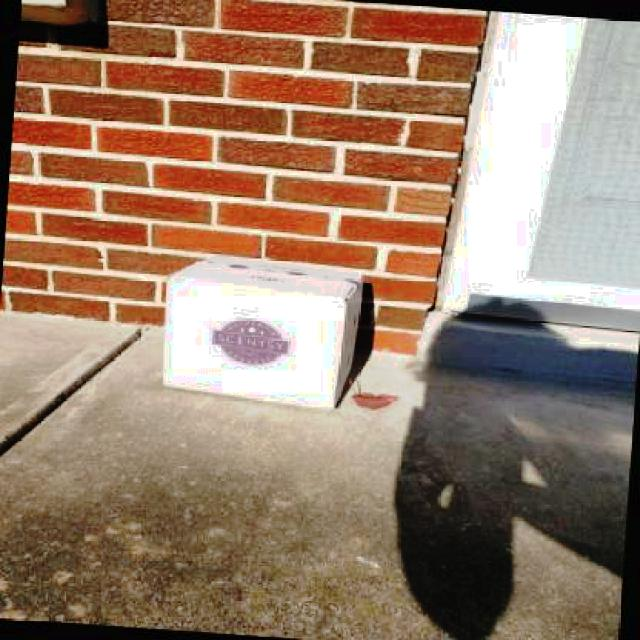Box: (302, 303, 417, 375), (164, 257, 260, 340), (294, 246, 389, 323), (583, 304, 640, 404), (574, 186, 640, 257), (592, 257, 640, 325)
